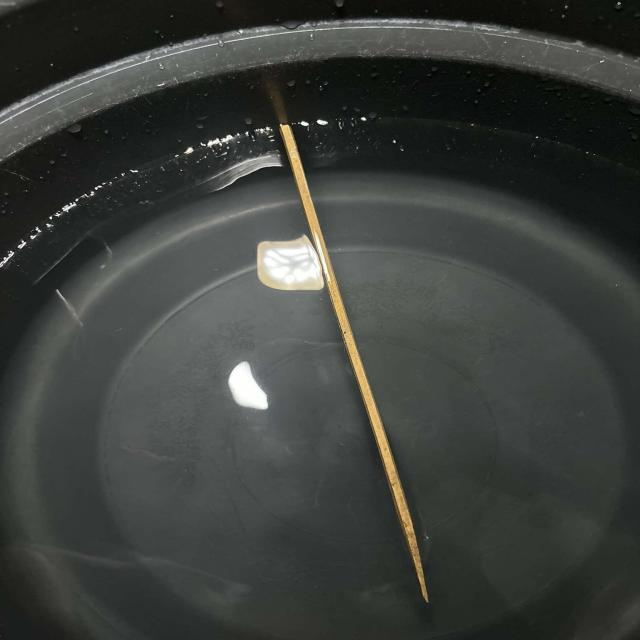Wood Stick: (248, 100, 452, 616)
